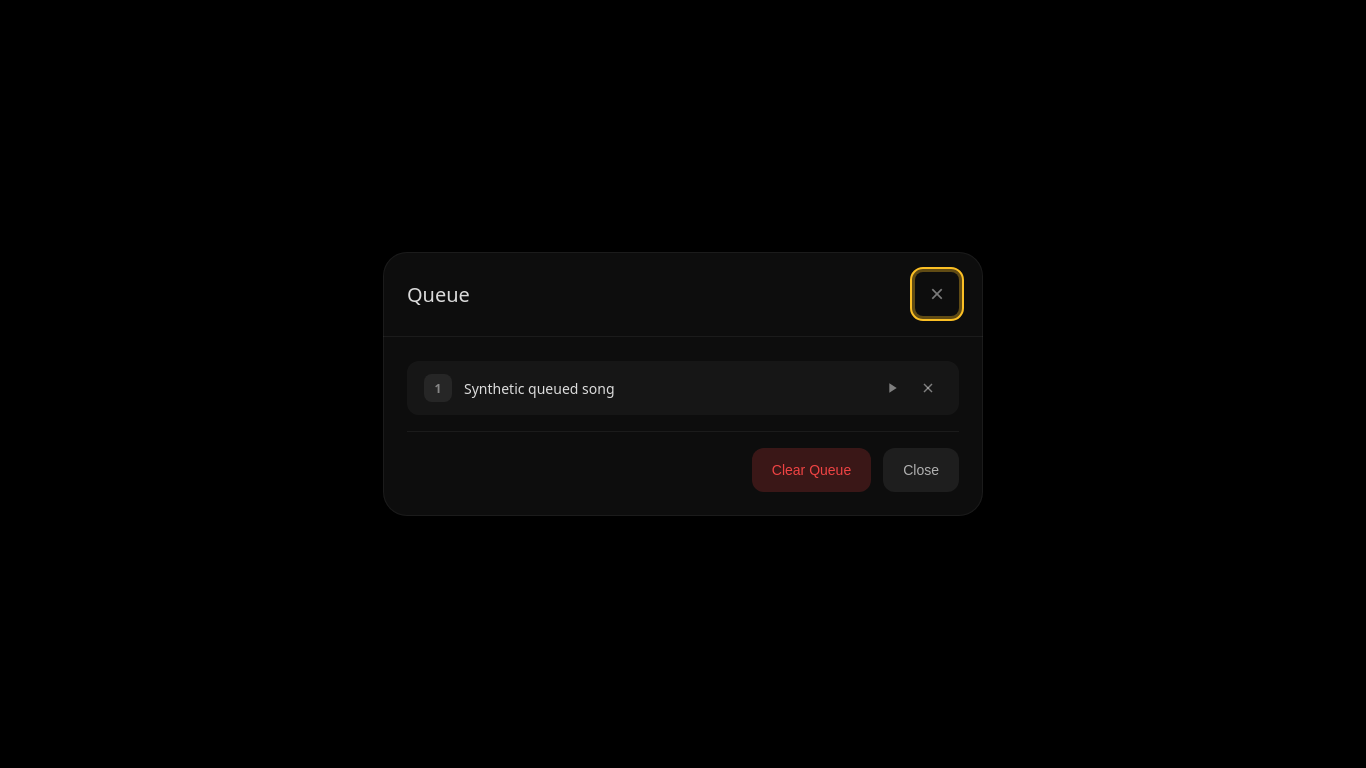
Test: Queue action refusal through the real API adapter › preserves confirmed data and exposes a refused clear operation
Expected: the text "Synthetic queued song" is shown, [464,378,614,398]
Click the button "Clear Queue": (812, 470) [752,448,871,492]
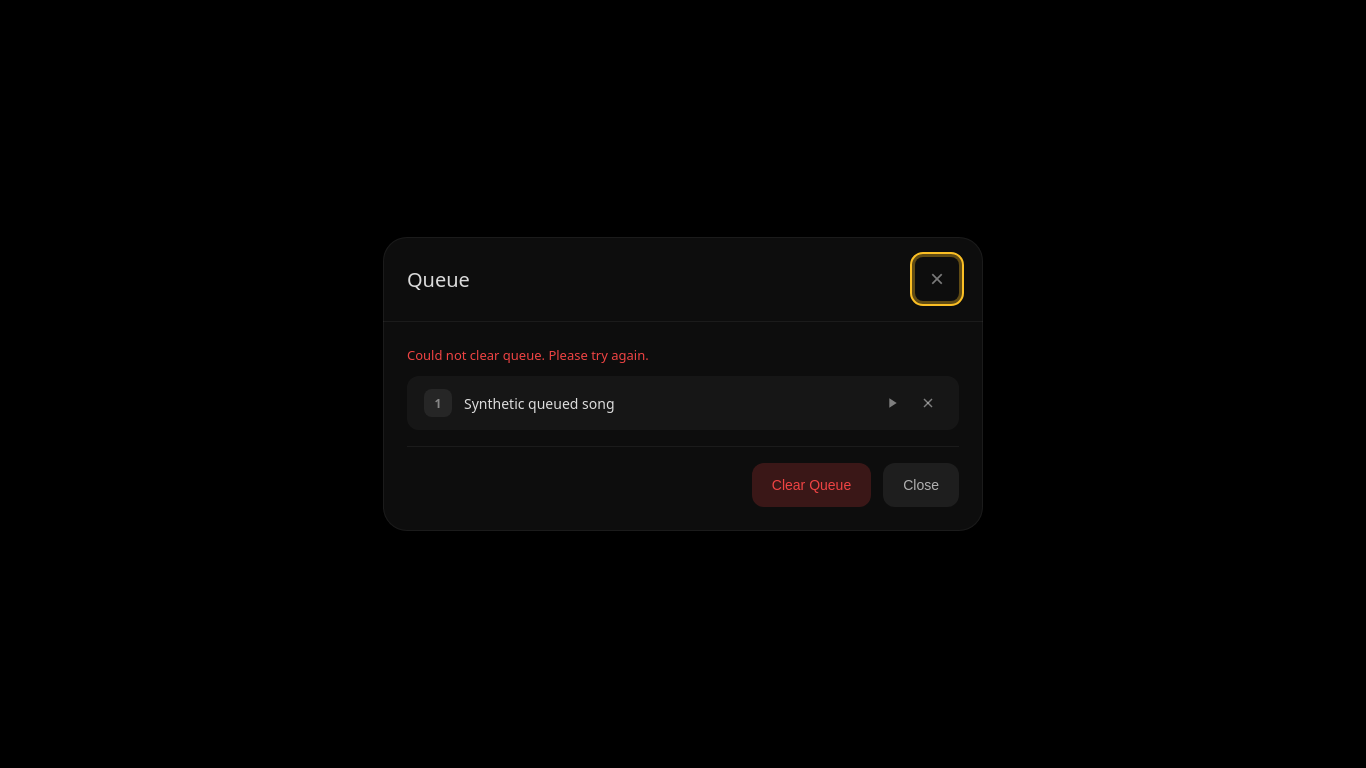
Expected: the text "Synthetic queued song" is shown, [464,394,614,412]
Now the text "Could not clear queue. Please try again." is shown, box [407,346,649,364]
